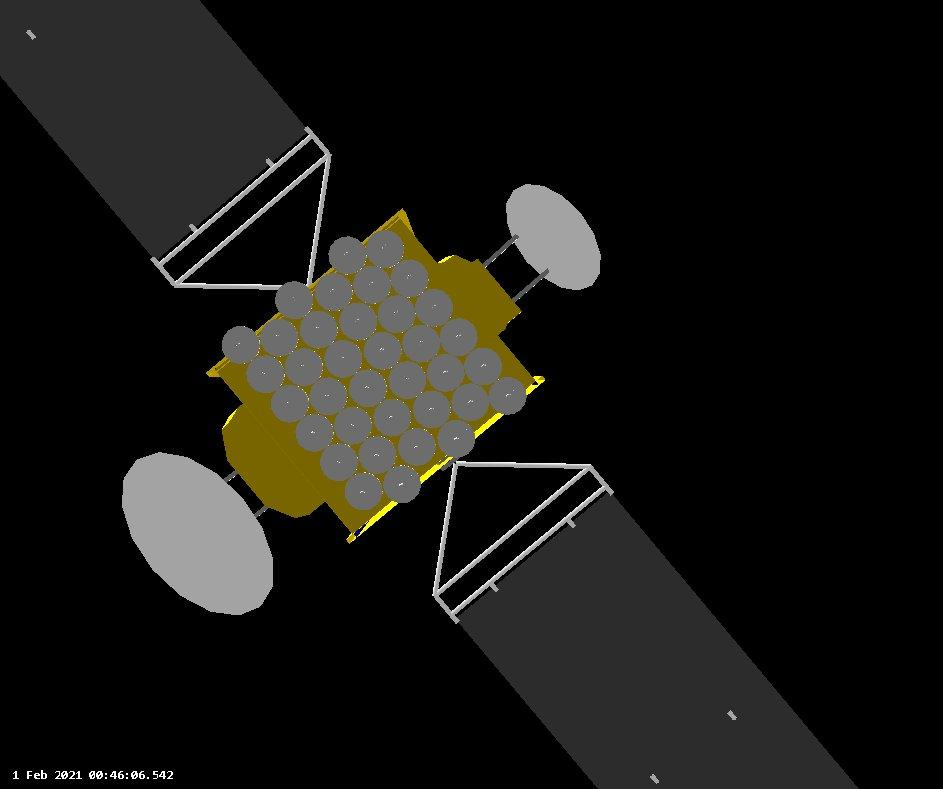antenna: (118, 447, 276, 618), (505, 181, 603, 293), (259, 317, 299, 357), (364, 230, 405, 269), (436, 418, 475, 459), (439, 318, 479, 357), (452, 381, 491, 421), (412, 391, 453, 429), (328, 236, 367, 275), (246, 355, 285, 394), (271, 384, 310, 423), (345, 472, 384, 511), (391, 258, 429, 298), (378, 294, 416, 334), (465, 346, 503, 386), (397, 427, 435, 467), (285, 347, 323, 386), (334, 406, 373, 444), (320, 443, 358, 482), (222, 324, 259, 364), (295, 415, 335, 452), (300, 310, 338, 348), (364, 332, 402, 370), (324, 340, 362, 378), (427, 354, 465, 392), (489, 378, 527, 416), (388, 362, 427, 399), (354, 267, 392, 304), (276, 281, 313, 319), (415, 289, 453, 326), (339, 303, 377, 340), (373, 398, 410, 436), (359, 437, 397, 474), (383, 465, 420, 503), (310, 378, 349, 414), (314, 274, 354, 309), (402, 326, 440, 362), (352, 369, 387, 406)
body: (205, 206, 547, 541)
solar: (430, 454, 867, 789), (0, 0, 334, 299)
